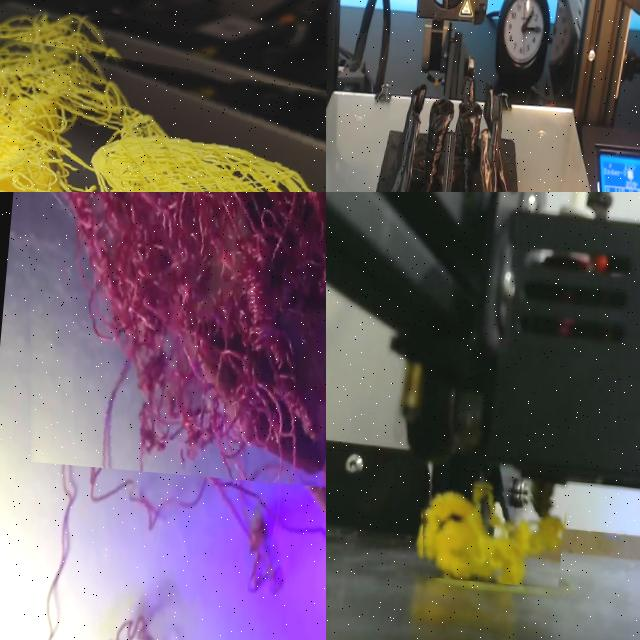spaghetti: (0, 192, 326, 497), (0, 0, 326, 192), (421, 485, 563, 585), (88, 598, 229, 640)
